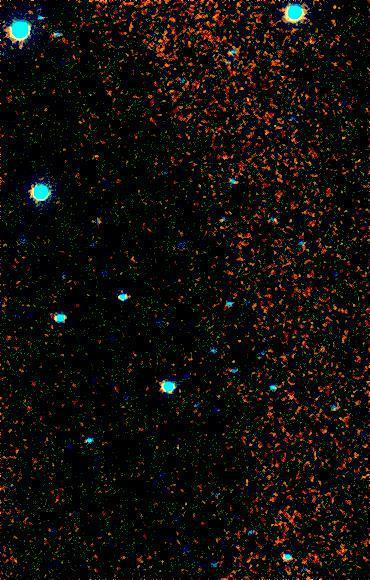star: (317, 0, 347, 30)
